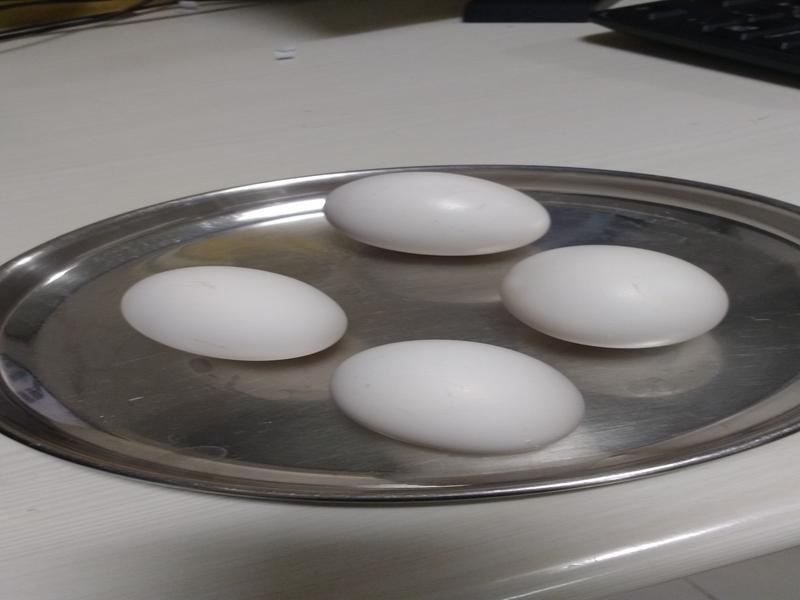egg: (503, 240, 732, 349)
